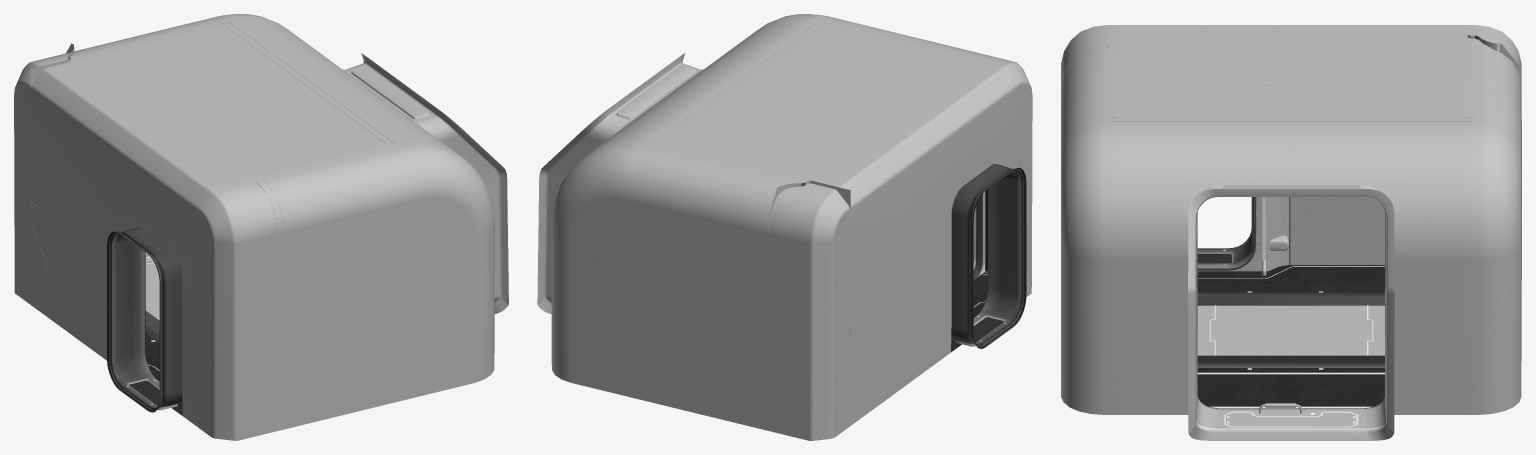
Rendered from SM_LivingModule_1_Indoor_Merged.fbx.
3 renders of one model, left to right at view 1: azimuth 30°, elevation 25°; view 2: azimuth 150°, elevation 25°; view 3: azimuth 270°, elevation 25°, orthographic. The views are drawn at different scales.
Visible parts, largest first — view 1: SM_LivingModule_1_Indoor_Merged_LOD0; view 2: SM_LivingModule_1_Indoor_Merged_LOD0; view 3: SM_LivingModule_1_Indoor_Merged_LOD0.
Boxes of the visible parts, left/top/right/bottom form: SM_LivingModule_1_Indoor_Merged_LOD0: left=14, top=14, right=508, bottom=440; SM_LivingModule_1_Indoor_Merged_LOD0: left=537, top=14, right=1032, bottom=440; SM_LivingModule_1_Indoor_Merged_LOD0: left=1061, top=25, right=1521, bottom=440.
Size of the model in its own units: 638 by 646 by 391.
